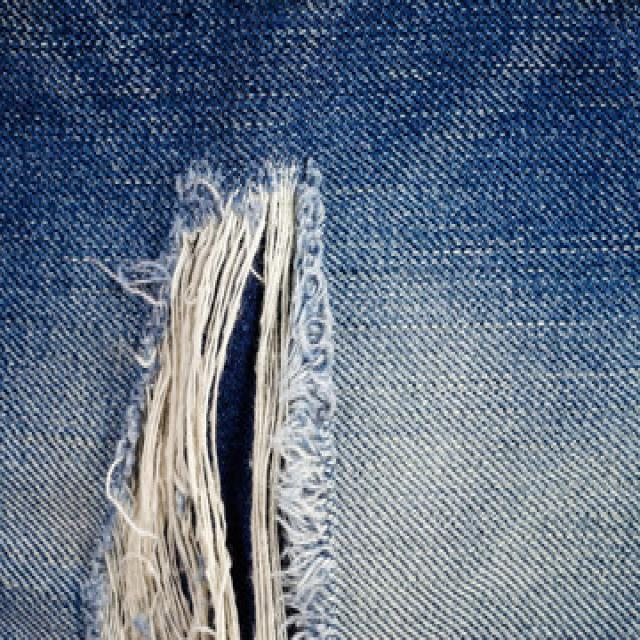Hole: (87, 161, 335, 640)
